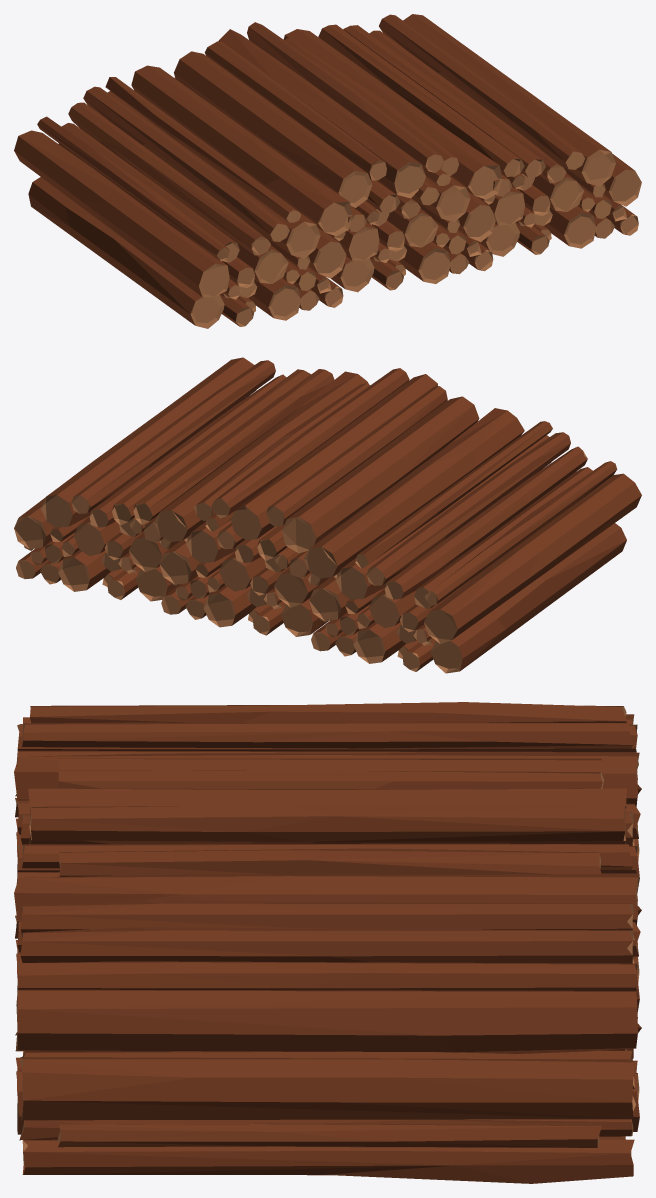
File: Дрова.fbx
3 views of the same model, one above another, from view 1: azimuth 30°, elevation 25°; view 2: azimuth 150°, elevation 25°; view 3: azimuth 270°, elevation 25° (orthographic). The views are drawn at different scales.
Visible parts, largest first — view 1: Цилиндр.001; view 2: Цилиндр.001; view 3: Цилиндр.001.
Part boxes in pixels (<box>): Цилиндр.001: <box>14,14,641,328</box>; Цилиндр.001: <box>14,357,641,673</box>; Цилиндр.001: <box>14,702,641,1183</box>.
Size of the model in its own units: 982 by 271 by 720.
